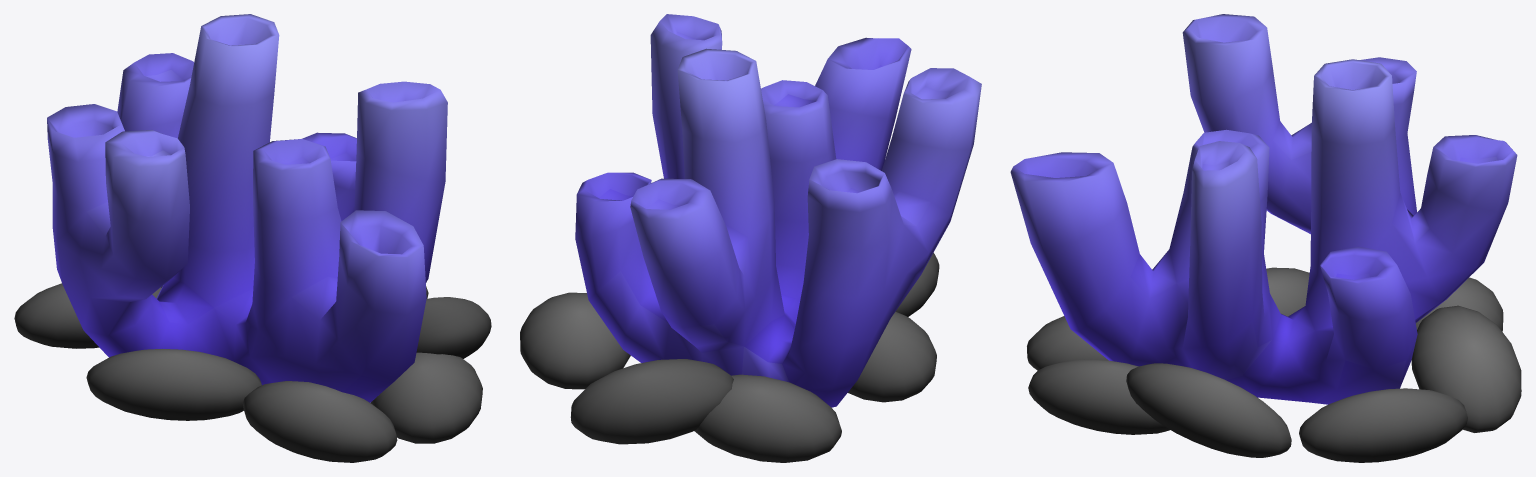
File: Coral2.fbx
3 views of the same model, side by side, from view 1: azimuth 30°, elevation 25°; view 2: azimuth 150°, elevation 25°; view 3: azimuth 270°, elevation 25° (orthographic).
Parts seen in each view (by area): view 1: Coral, Piedras de coral; view 2: Coral, Piedras de coral; view 3: Coral, Piedras de coral.
Boxes of the visible parts, x1,y1,x2,y2 form: Coral: (47, 14, 447, 402); Piedras de coral: (14, 283, 491, 462); Coral: (575, 14, 981, 407); Piedras de coral: (520, 252, 939, 462); Coral: (1010, 14, 1517, 404); Piedras de coral: (1027, 267, 1521, 462).
Bounding box in the file's own units: 930 × 794 × 1121.
2 materials, 2 textured.
